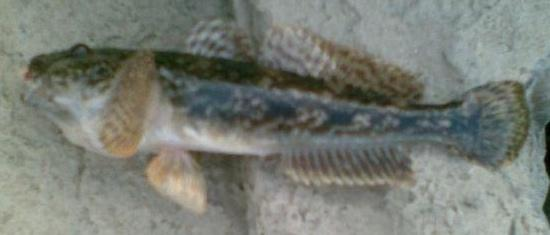Goby: (20, 19, 532, 211)
